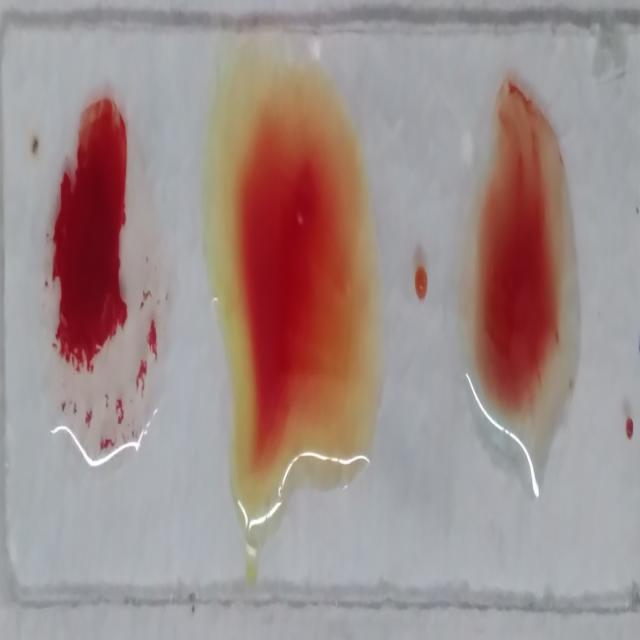D: (39, 88, 162, 465)
